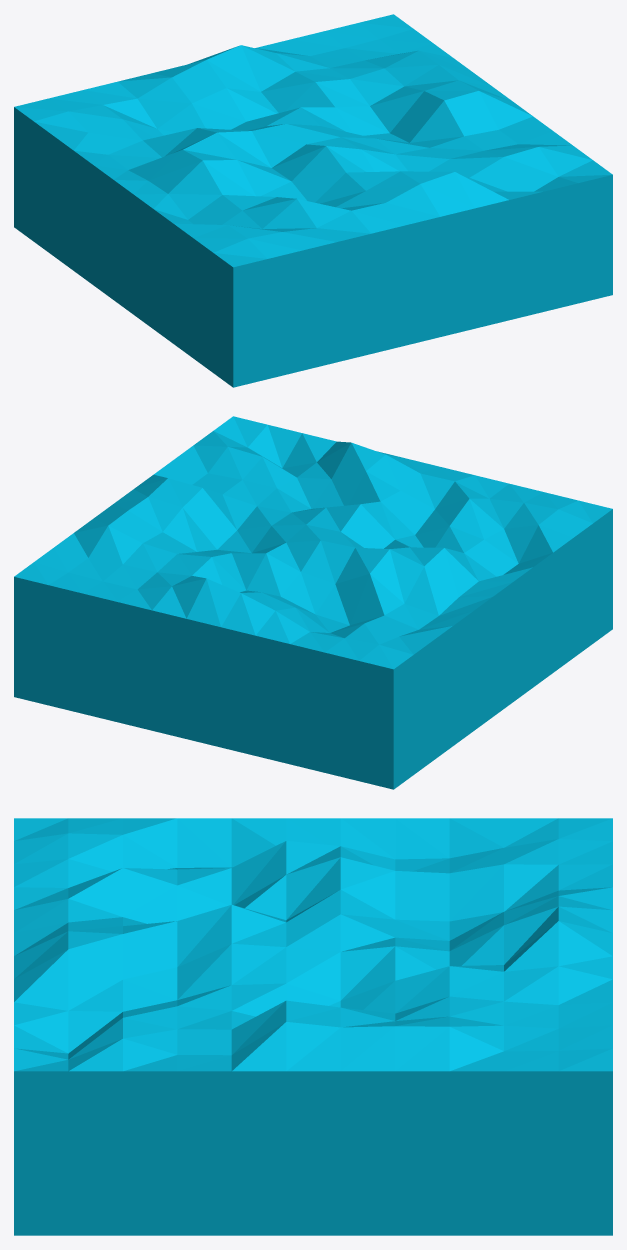
File: water2.fbx
The picture shows the model from 3 angles, top to bottom: view 1: azimuth 30°, elevation 25°; view 2: azimuth 150°, elevation 25°; view 3: azimuth 270°, elevation 25°; orthographic projection. The views are drawn at different scales.
Parts seen in each view (by area): view 1: Cube; view 2: Cube; view 3: Cube.
Boxes of the visible parts, left/top/right/bottom form: Cube: left=14, top=14, right=612, bottom=387; Cube: left=14, top=416, right=612, bottom=789; Cube: left=14, top=818, right=612, bottom=1235.
Size of the model in its own units: 200 by 73.58 by 200.
